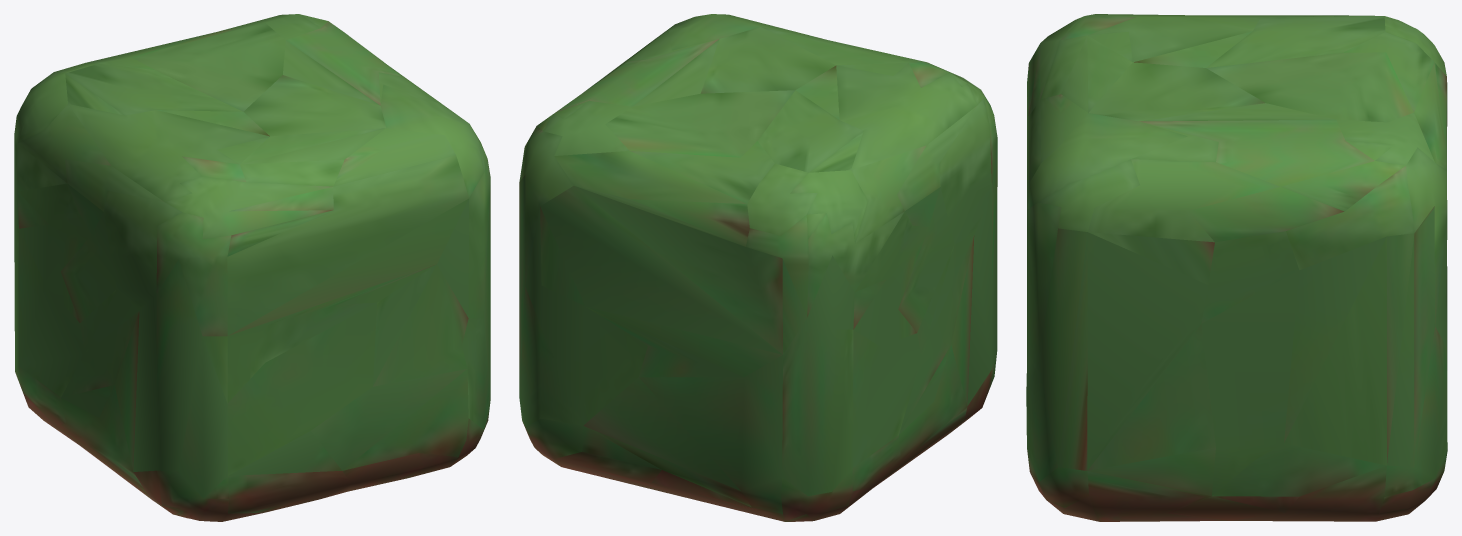
The model's file is hedge.glb.
3 views of the same model, side by side, from view 1: azimuth 30°, elevation 25°; view 2: azimuth 150°, elevation 25°; view 3: azimuth 270°, elevation 25° (orthographic). The views are drawn at different scales.
Visible parts, largest first — view 1: Mesh_0; view 2: Mesh_0; view 3: Mesh_0.
Part boxes in pixels (bbox=[...]): Mesh_0: bbox=[14, 14, 490, 521]; Mesh_0: bbox=[519, 14, 997, 521]; Mesh_0: bbox=[1026, 14, 1447, 521].
Bounding box in the file's own units: 1 × 0.9954 × 1.01.
Materials: 1 (1 with a texture image).
